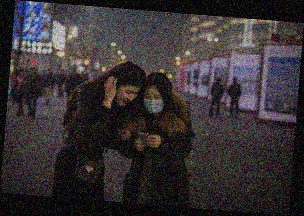with_mask: (142, 90, 166, 114)
without_mask: (114, 88, 140, 108)
